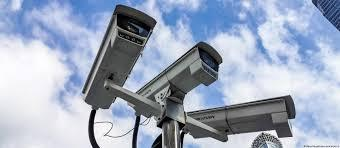tutu: (80, 3, 157, 116), (131, 35, 228, 114), (184, 91, 299, 137)
